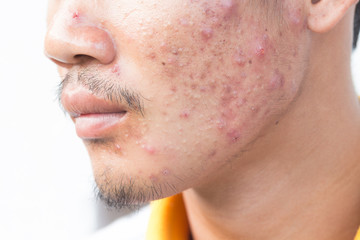acene: (137, 2, 293, 142)
